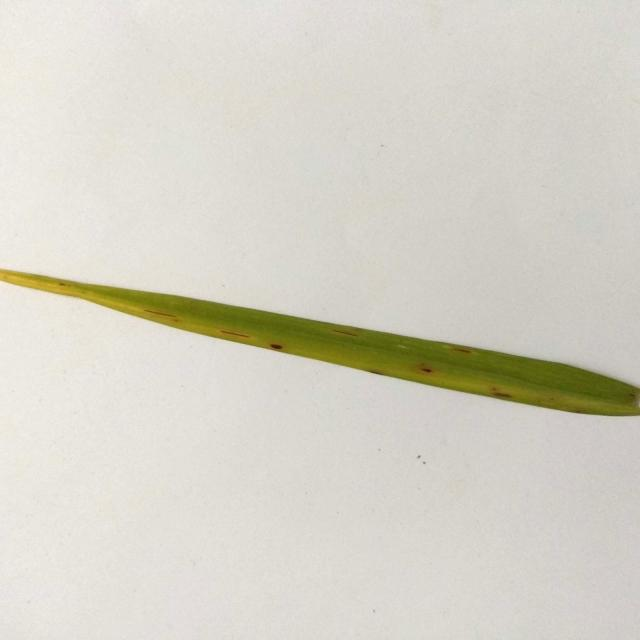Brown spot: (0, 219, 640, 493)
